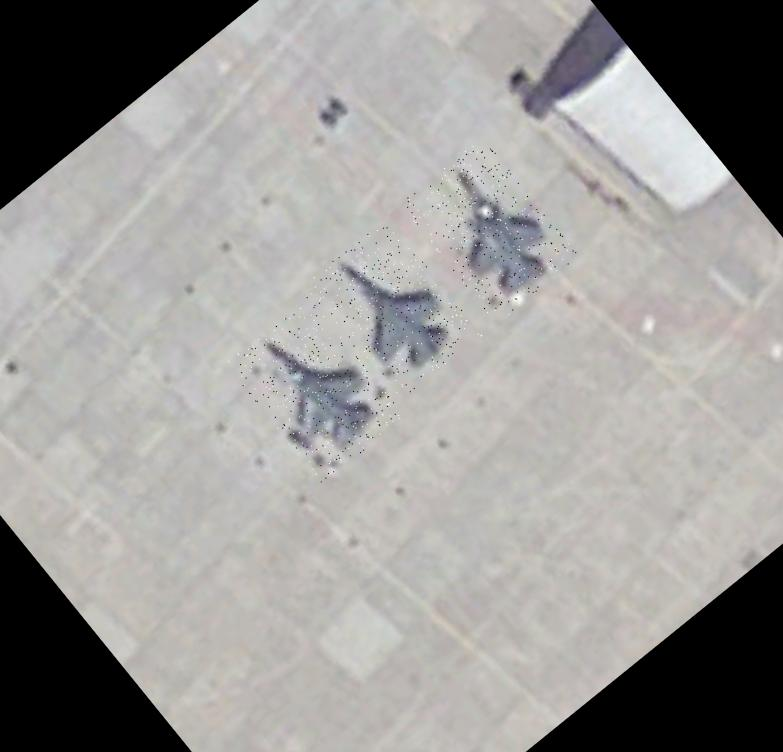A5: (224, 296, 406, 484), (302, 215, 483, 403), (399, 136, 580, 324)
